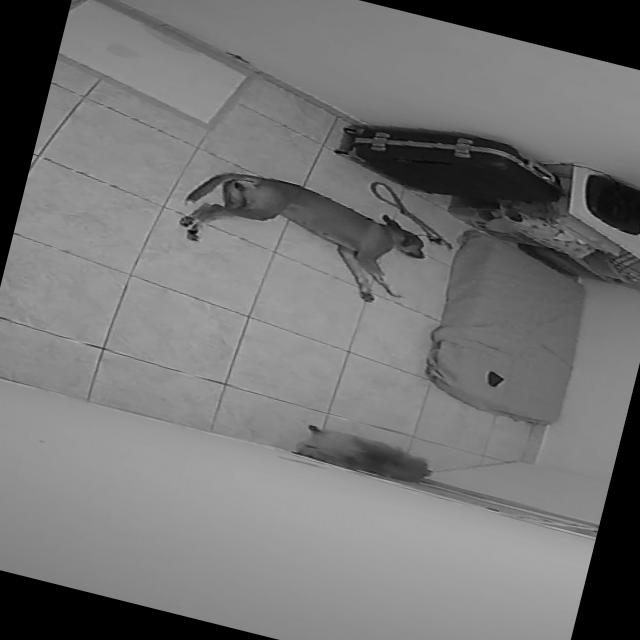laying down: (159, 147, 447, 318), (288, 416, 444, 494)
